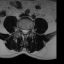CCS_normal: (24, 27, 25, 36)
LFS_normal: (27, 27, 30, 33)
LLS_normal: (25, 27, 27, 35)
RFS_normal: (19, 26, 22, 33)
RLS_normal: (22, 27, 24, 35)
